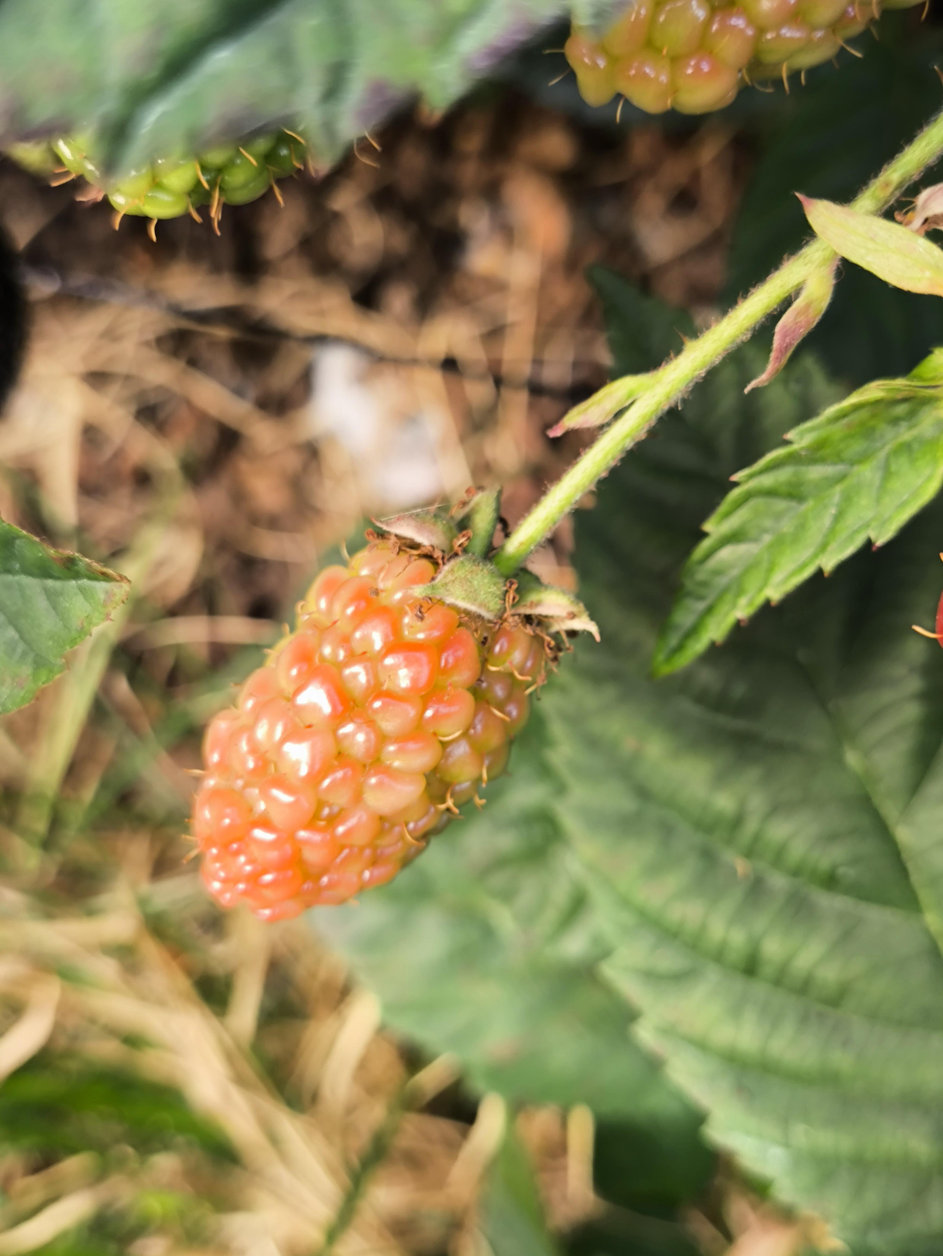naranja: (208, 538, 539, 919)
